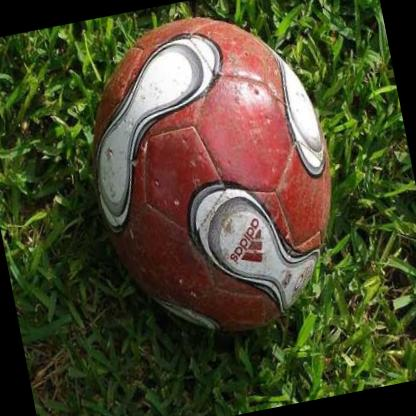ball: (67, 0, 357, 355)
